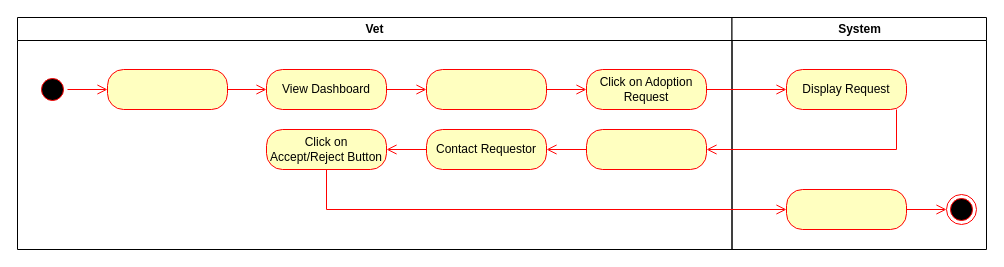
The diagram is 1004 pixels wide and 267 high, and some of its shapes have lost their labels. Here are the shapes that lost their labels. From the top down, the centre of each, then its label:
point 167,89: Login
point 486,89: Click on Notifications
point 646,149: View Contact Info of requestor
point 846,209: Conclude Adoption Request
